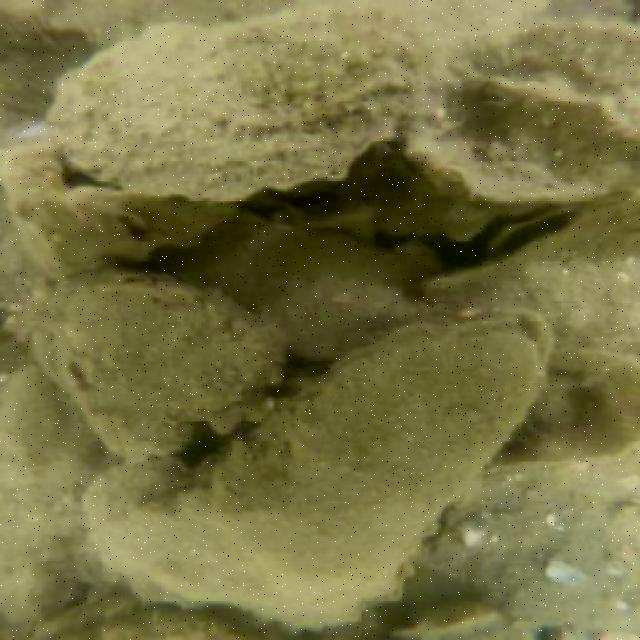Oyster-Closed: (164, 301, 559, 611), (43, 18, 446, 219), (83, 454, 368, 635), (25, 264, 286, 452), (434, 189, 639, 373), (404, 74, 639, 212), (220, 228, 449, 355), (443, 20, 639, 128), (485, 344, 639, 465)
Oyster-Open: (0, 123, 245, 290), (484, 197, 573, 260)
